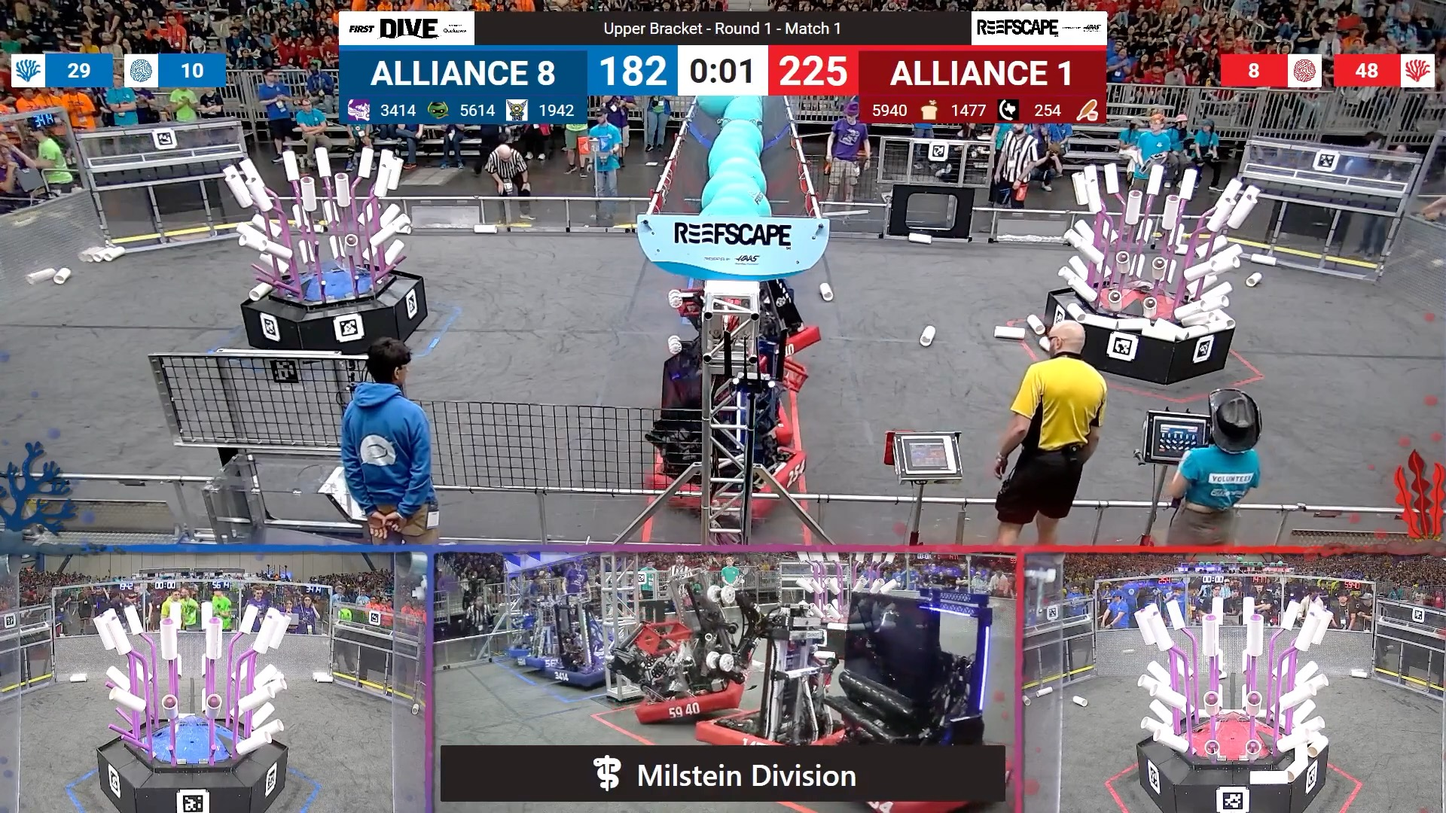bumpers: (639, 445, 809, 523), (696, 702, 864, 751), (626, 676, 749, 723), (774, 325, 832, 374), (530, 659, 623, 687), (511, 652, 571, 672)
